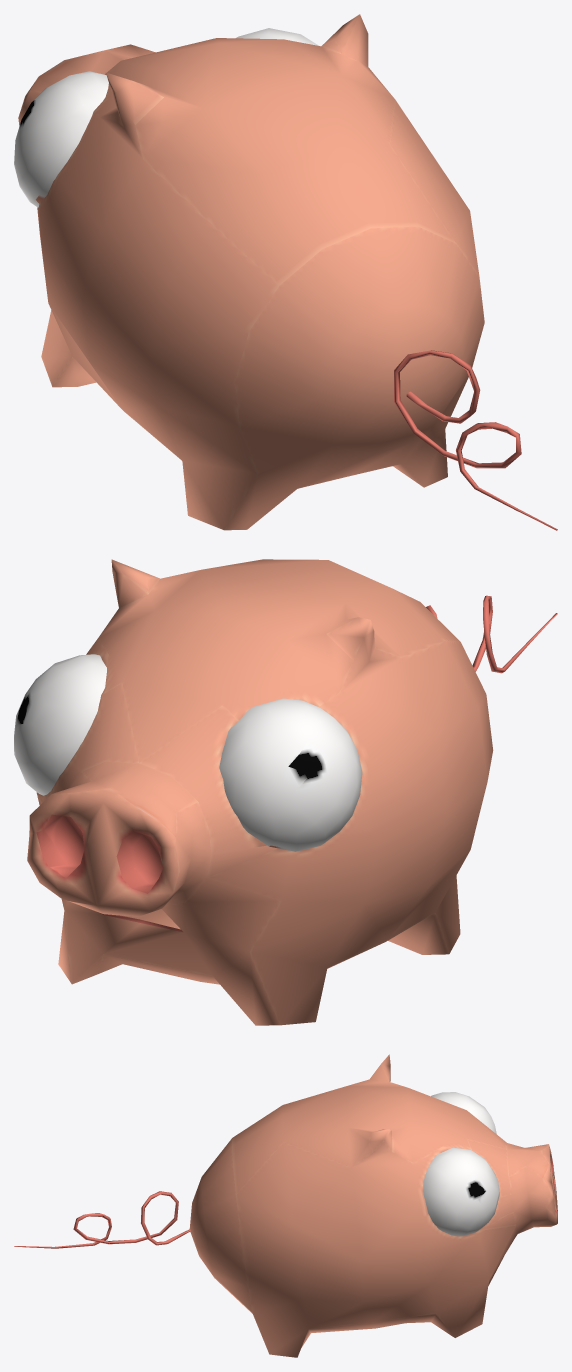
Rendered from plushpig_static.fbx.
The picture shows the model from 3 angles, top to bottom: view 1: azimuth 30°, elevation 25°; view 2: azimuth 150°, elevation 25°; view 3: azimuth 270°, elevation 25°; orthographic projection. The views are drawn at different scales.
Visible parts, largest first — view 1: pig; view 2: pig; view 3: pig.
Boxes of the visible parts, <box> form: pig: <box>14,14,557,530</box>; pig: <box>14,559,557,1025</box>; pig: <box>14,1054,557,1357</box>.
Size of the model in its own units: 0.2568 by 0.2723 by 0.5734.
